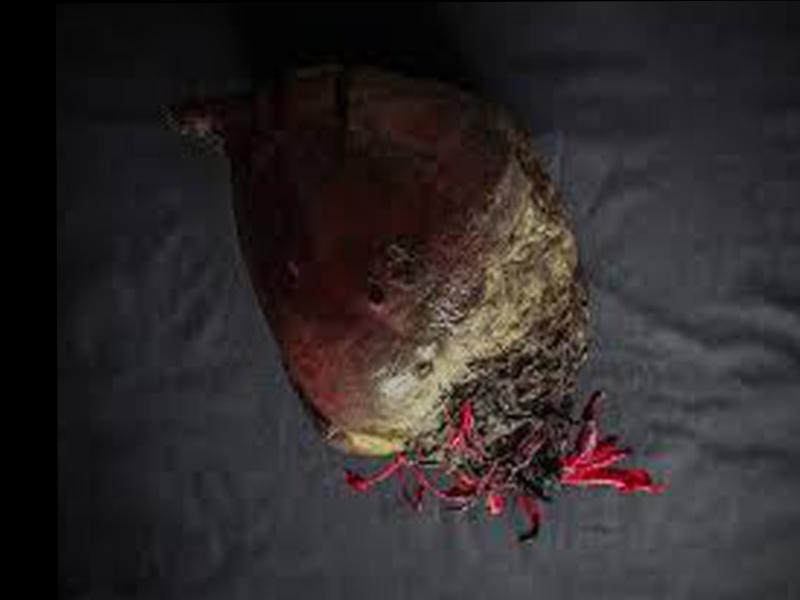Beet: (163, 66, 662, 543)
